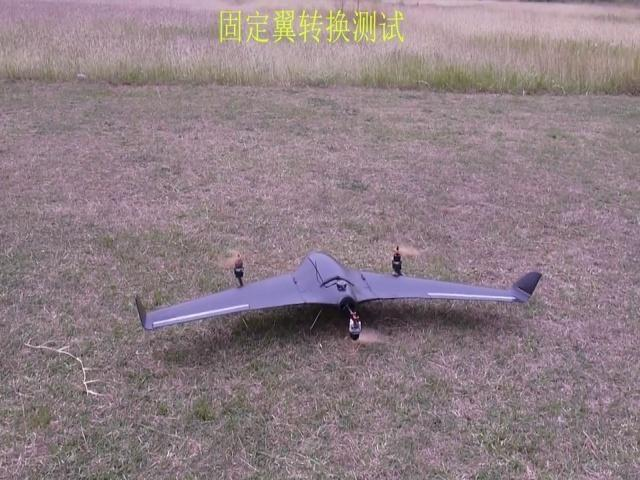Airplane: (135, 251, 541, 342)
